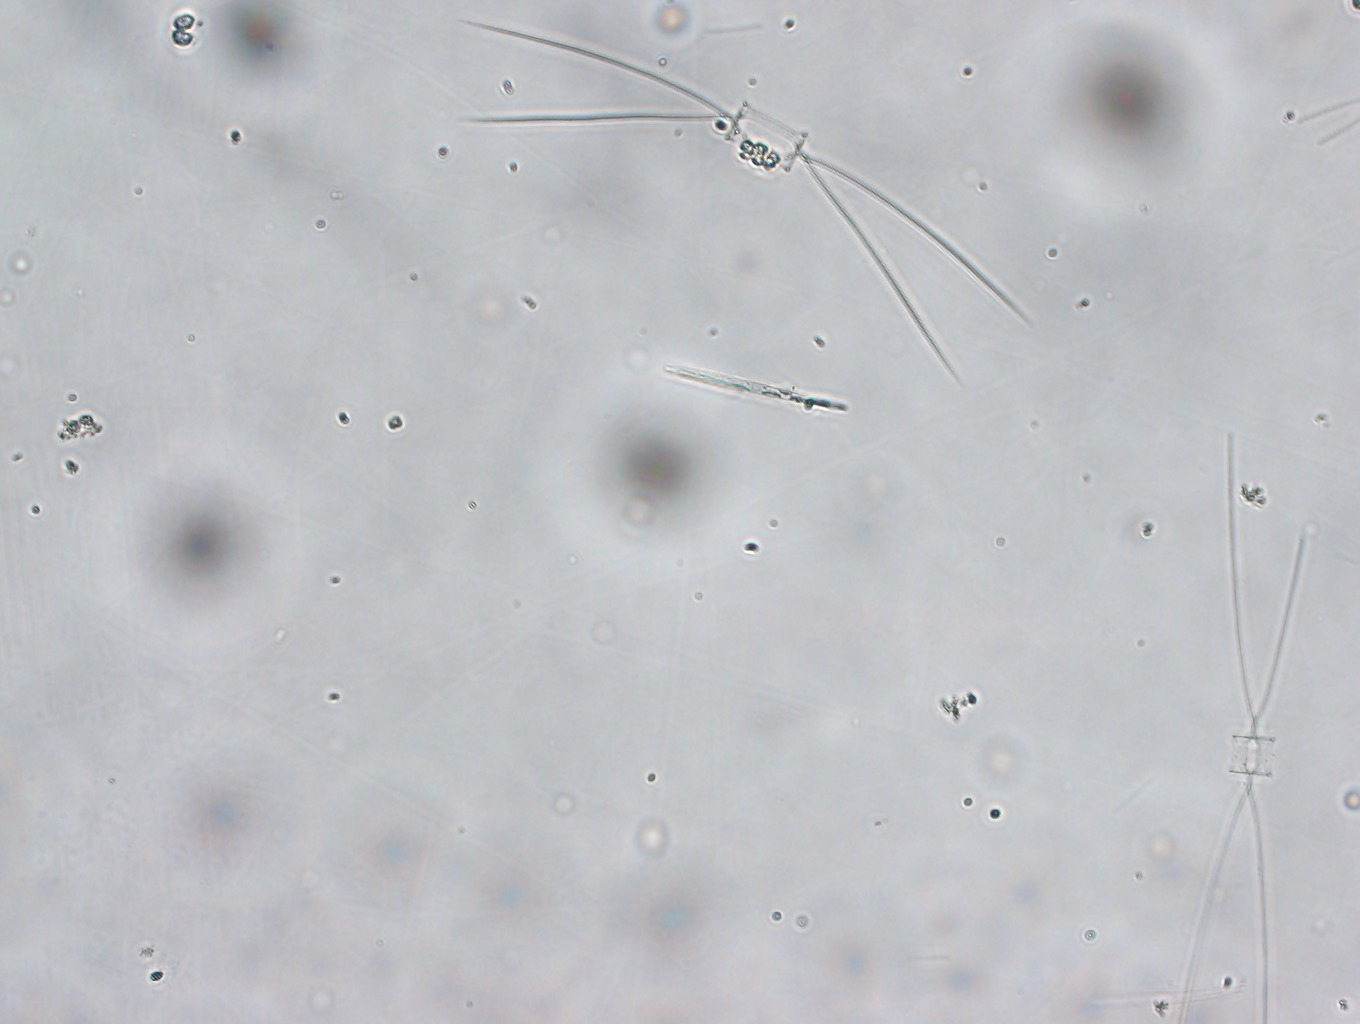chaetoceros: (443, 9, 1036, 393), (1176, 419, 1312, 1022)
